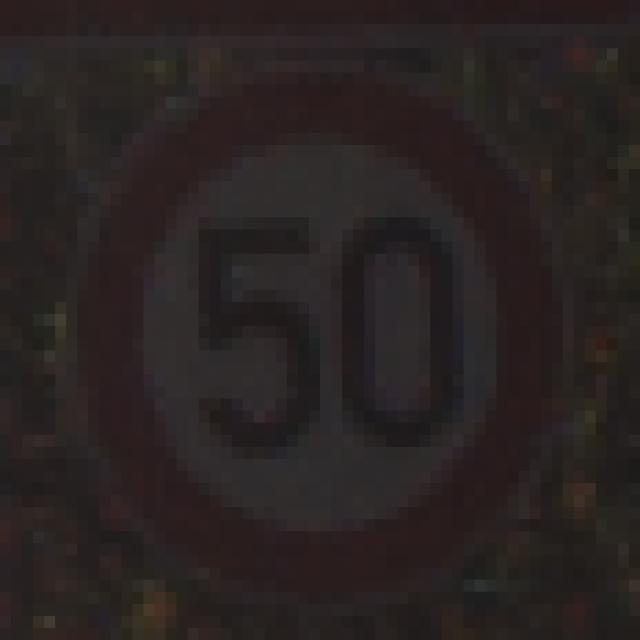Ograniczenie predkosci do 50: (89, 71, 556, 604)
